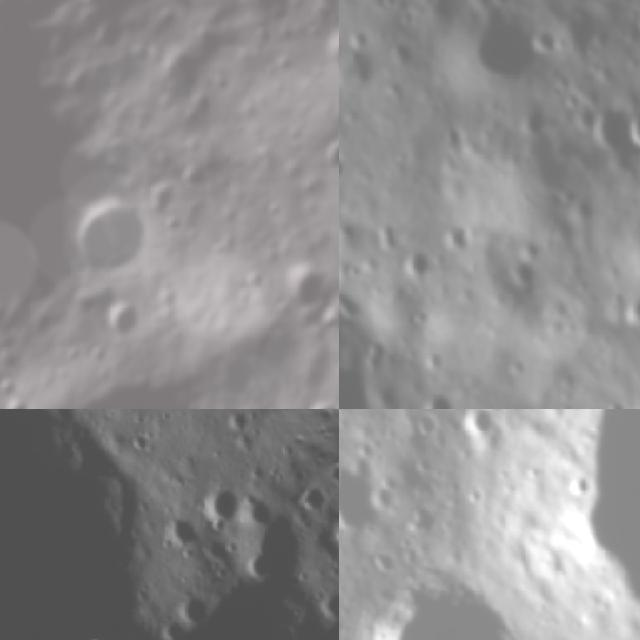crater: (0, 409, 263, 640), (53, 180, 164, 281), (223, 497, 323, 596), (469, 7, 550, 79), (186, 473, 258, 542), (275, 260, 331, 315), (171, 584, 226, 639), (160, 514, 210, 565), (289, 480, 339, 531), (101, 290, 145, 342), (591, 102, 631, 156), (218, 409, 267, 446), (308, 579, 339, 635), (394, 244, 436, 276), (315, 22, 339, 76), (420, 375, 458, 409), (443, 120, 470, 154), (326, 513, 339, 574), (157, 211, 185, 239), (263, 200, 290, 226), (0, 373, 20, 404), (630, 102, 640, 154), (208, 235, 228, 258), (5, 398, 40, 409), (230, 290, 249, 310), (339, 151, 348, 185), (308, 399, 334, 409)
